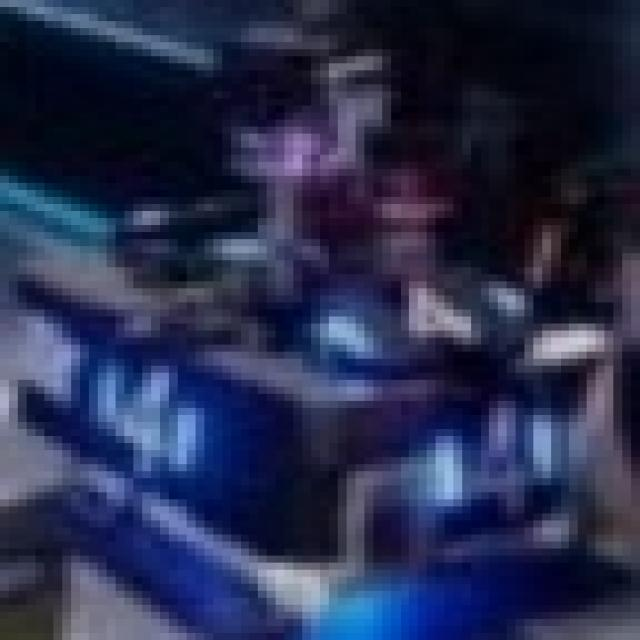B4: (418, 387, 560, 527), (80, 338, 196, 471)
